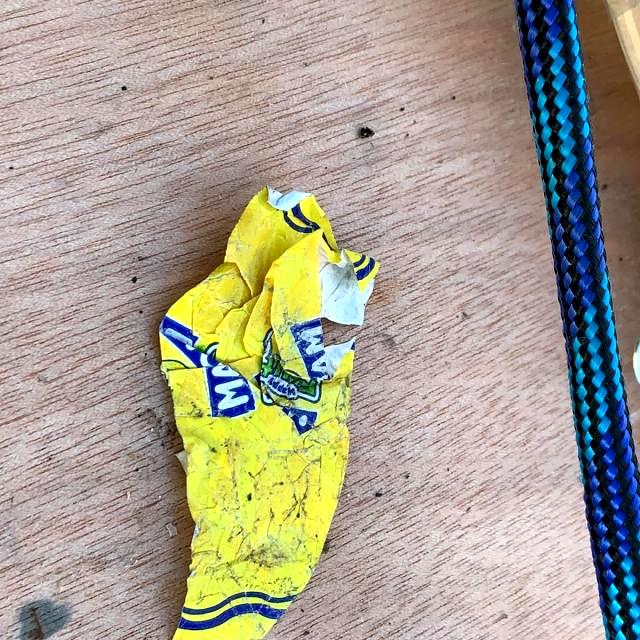Plastic: (154, 181, 384, 639)
